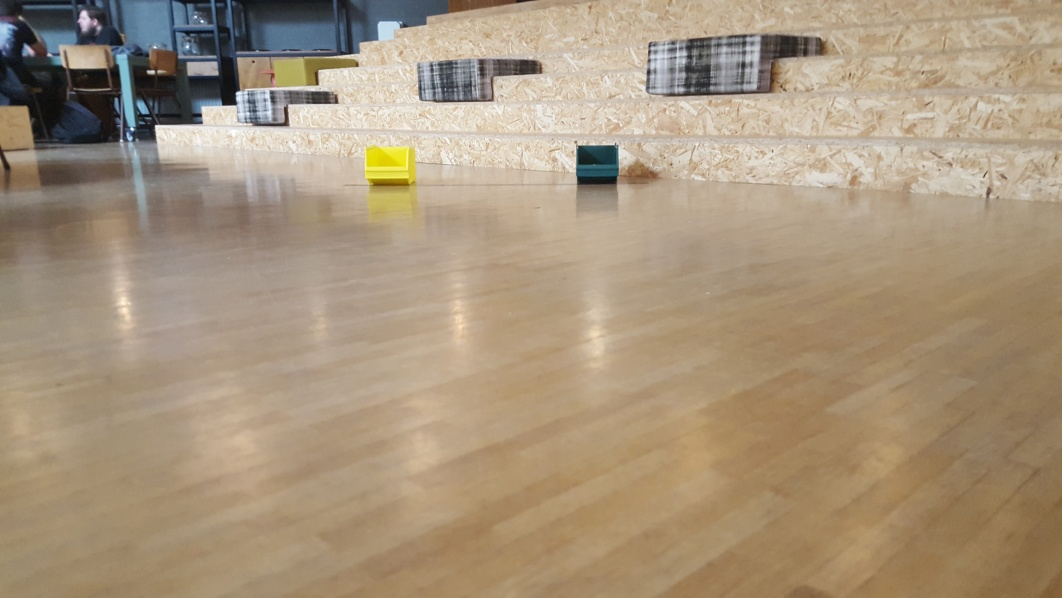tray: (568, 142, 624, 185), (366, 142, 419, 187)
